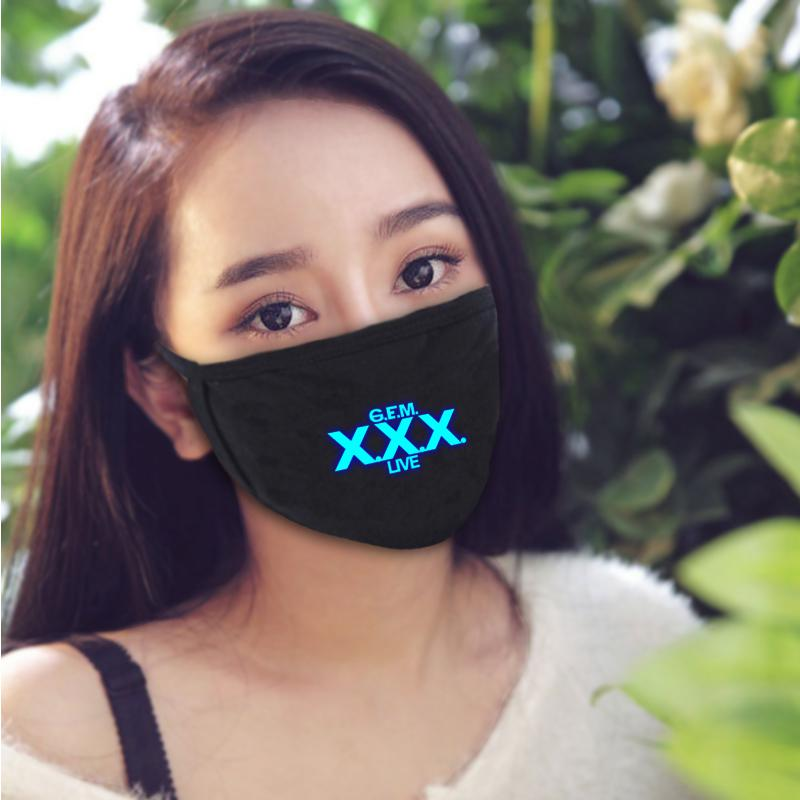OK: (168, 186, 514, 532)
